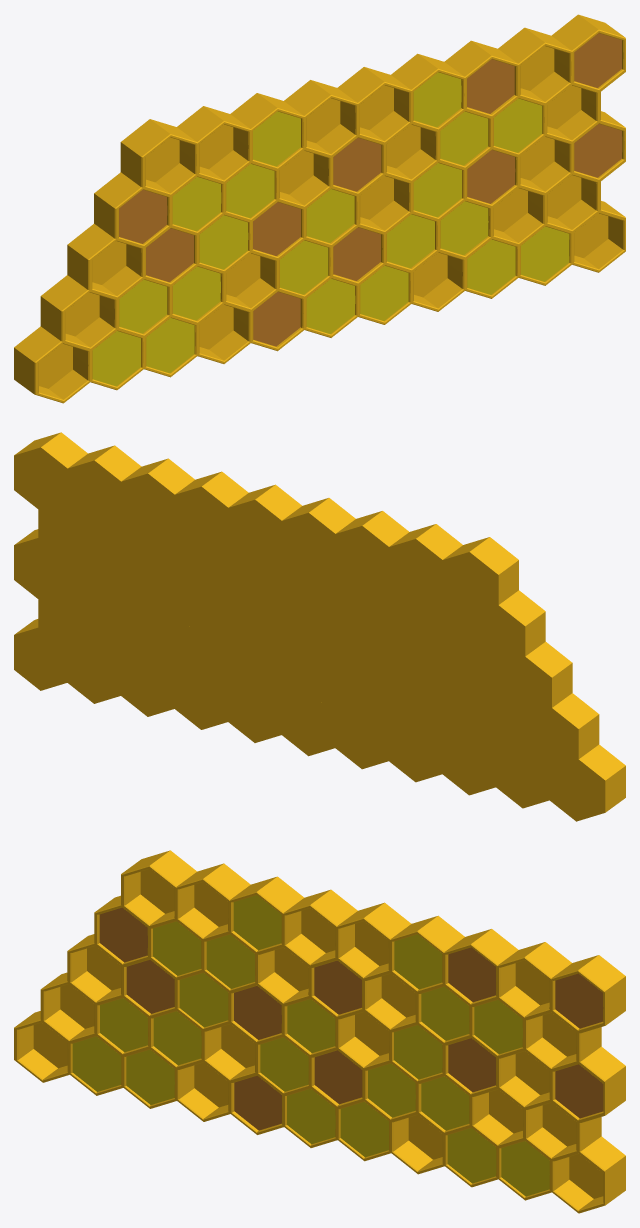
The model's file is Honey5.fbx.
3 renders of one model, top to bottom at view 1: azimuth 30°, elevation 25°; view 2: azimuth 150°, elevation 25°; view 3: azimuth 330°, elevation 25°, orthographic.
Visible parts, largest first — view 1: Cube.068; view 2: Cube.068; view 3: Cube.068.
Part boxes in pixels (left/top/right/bottom): Cube.068: left=14, top=14, right=625, bottom=403; Cube.068: left=14, top=432, right=625, bottom=821; Cube.068: left=14, top=850, right=625, bottom=1213.
Bounding box in the file's own units: 2717 × 1070 × 167.
